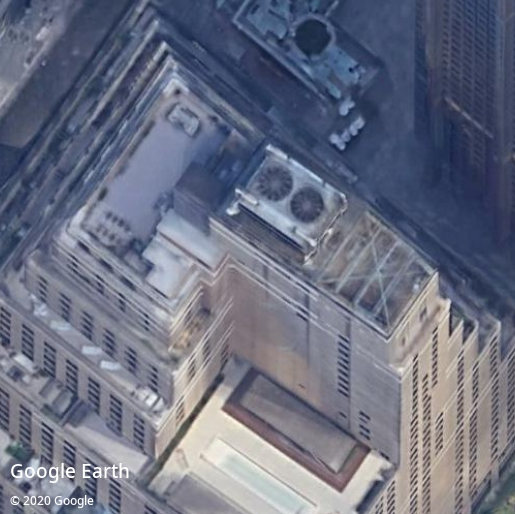Vent: (257, 165, 293, 201), (290, 188, 323, 222)
